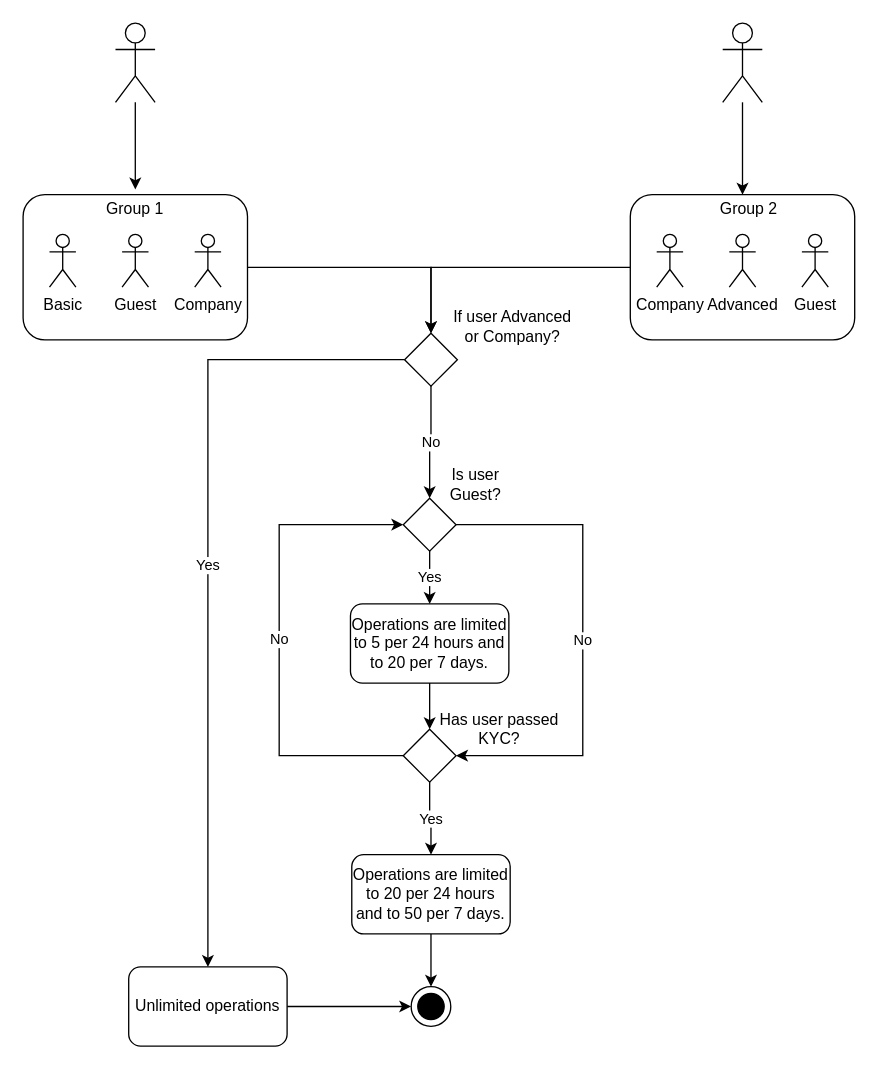
Image size: 878x1069. Some labels were removed from this diagram. Here are the shapes that lost their labels. From the top down, the centre of each, then its label:
pixel 134 62: Partner A
pixel 741 62: Partner B
